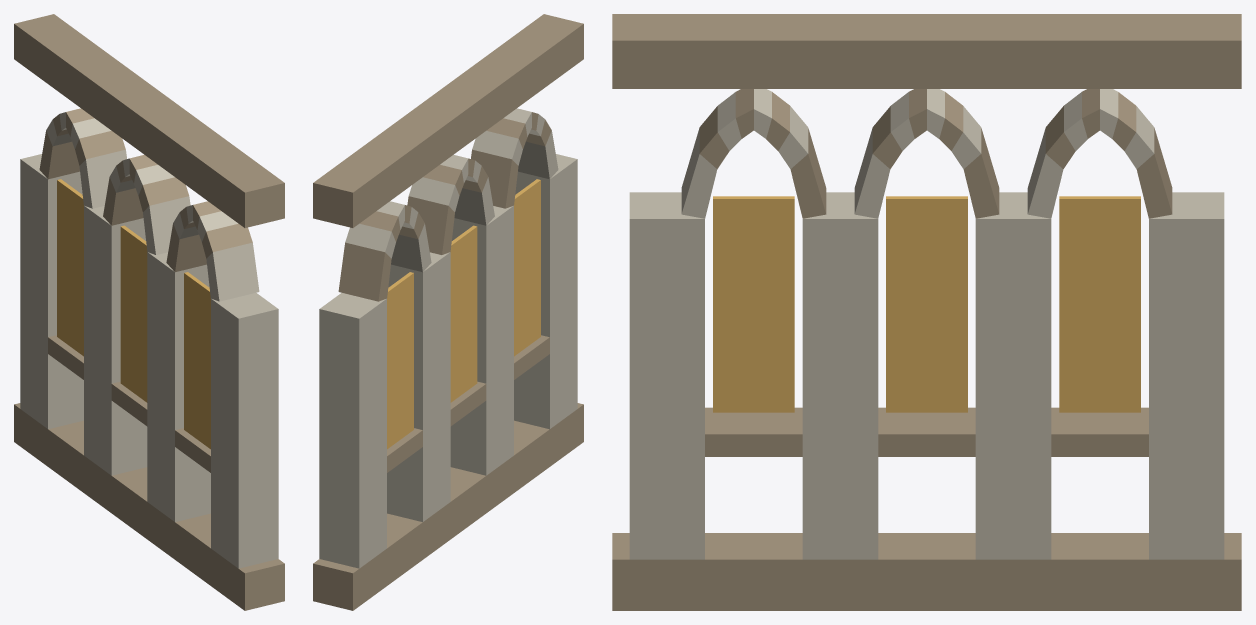
File: Clerestory__Window.fbx
3 renders of one model, left to right at view 1: azimuth 30°, elevation 25°; view 2: azimuth 150°, elevation 25°; view 3: azimuth 270°, elevation 25°, orthographic. The views are drawn at different scales.
Parts seen in each view (by area): view 1: Clerestory__Window; view 2: Clerestory__Window; view 3: Clerestory__Window.
Part boxes in pixels (x1,y1,x2,y2): Clerestory__Window: [14, 14, 284, 610]; Clerestory__Window: [313, 14, 583, 610]; Clerestory__Window: [612, 14, 1241, 610].
Bounding box in the file's own units: 40 × 400 × 400.
Materials: 1 (1 with a texture image).
